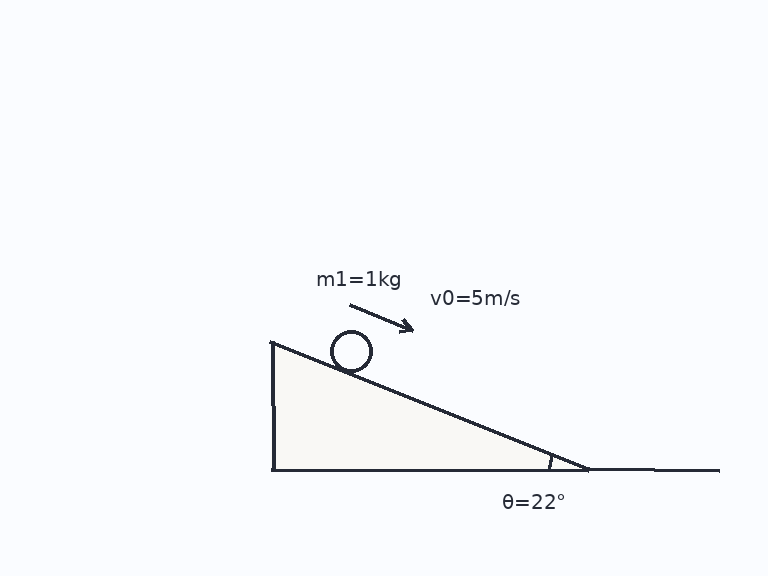ball: (328, 328, 374, 374)
ramp: (270, 340, 591, 472)
